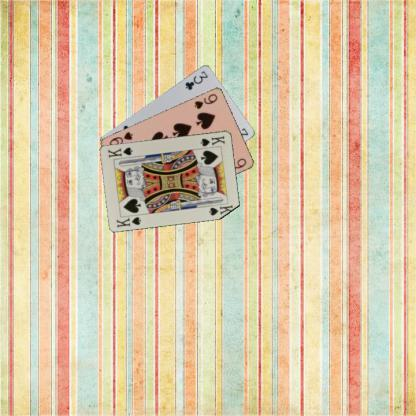3c: (182, 68, 210, 91)
9s: (192, 91, 219, 110)
Ks: (198, 132, 226, 148), (114, 214, 143, 229)
